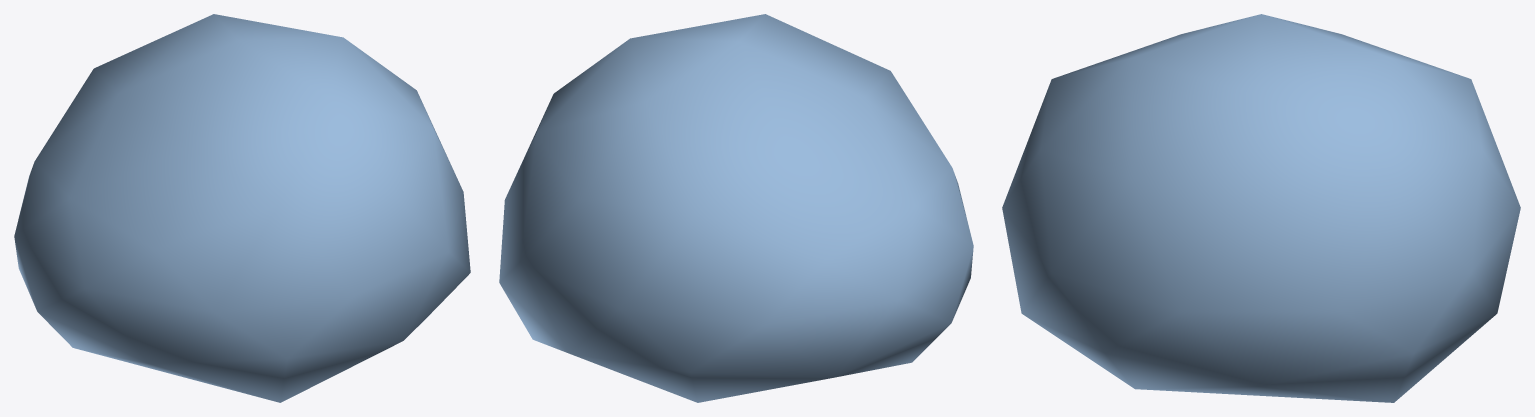
File: rockA.glb
3 renders of one model, left to right at view 1: azimuth 30°, elevation 25°; view 2: azimuth 150°, elevation 25°; view 3: azimuth 270°, elevation 25°, orthographic. The views are drawn at different scales.
Parts seen in each view (by area): view 1: Icosphere; view 2: Icosphere; view 3: Icosphere.
Boxes of the visible parts, left/top/right/bottom form: Icosphere: left=14, top=14, right=470, bottom=402; Icosphere: left=499, top=14, right=973, bottom=402; Icosphere: left=1002, top=14, right=1520, bottom=402.
Bounding box in the file's own units: 1.25 × 0.8445 × 1.26.
